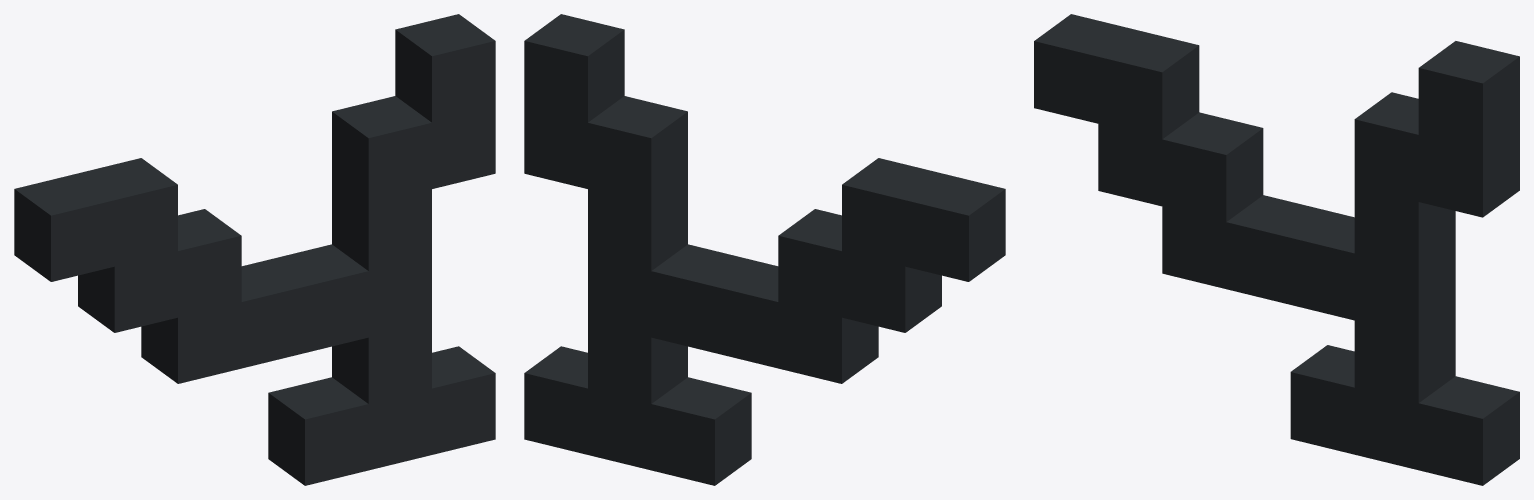
The model's file is dead-grass.obj.
The picture shows the model from 3 angles, left to right: view 1: azimuth 30°, elevation 25°; view 2: azimuth 150°, elevation 25°; view 3: azimuth 330°, elevation 25°; orthographic projection.
Size of the model in its own units: 7 by 6 by 1.
Materials: 1 (1 with a texture image).
